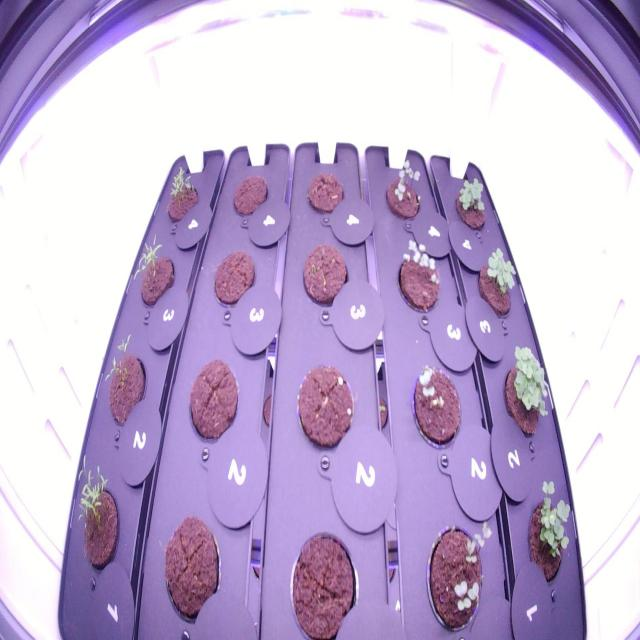germination: (418, 508, 497, 636), (68, 450, 124, 586), (515, 475, 577, 597), (496, 341, 555, 453), (404, 354, 465, 462), (93, 327, 149, 441), (389, 231, 442, 321), (128, 228, 178, 318), (473, 242, 521, 326), (382, 154, 427, 225), (160, 161, 202, 234), (452, 169, 491, 235)
pod: (280, 522, 366, 639), (156, 512, 228, 632), (289, 359, 359, 464), (184, 355, 242, 453), (294, 238, 354, 316), (210, 243, 258, 320), (300, 168, 348, 224), (228, 169, 270, 223)
